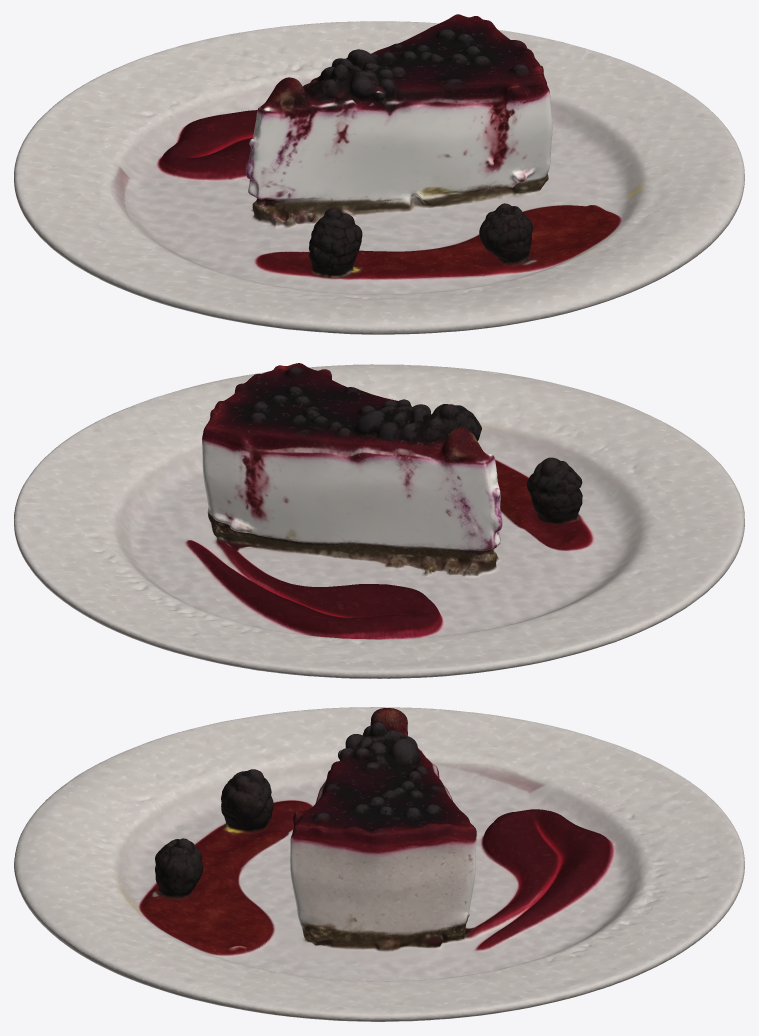
Rendered from cheesecake.glb.
3 renders of one model, top to bottom at view 1: azimuth 30°, elevation 25°; view 2: azimuth 150°, elevation 25°; view 3: azimuth 270°, elevation 25°, orthographic.
Size of the model in its own units: 1.9 by 0.4638 by 1.9.
Materials: 1 (1 with a texture image).
